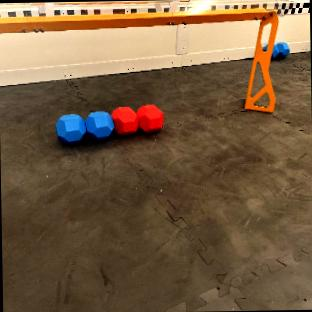V5_BLUE: (56, 110, 113, 143), (271, 43, 288, 58), (262, 45, 266, 50)
V5_RED: (110, 104, 163, 135)
